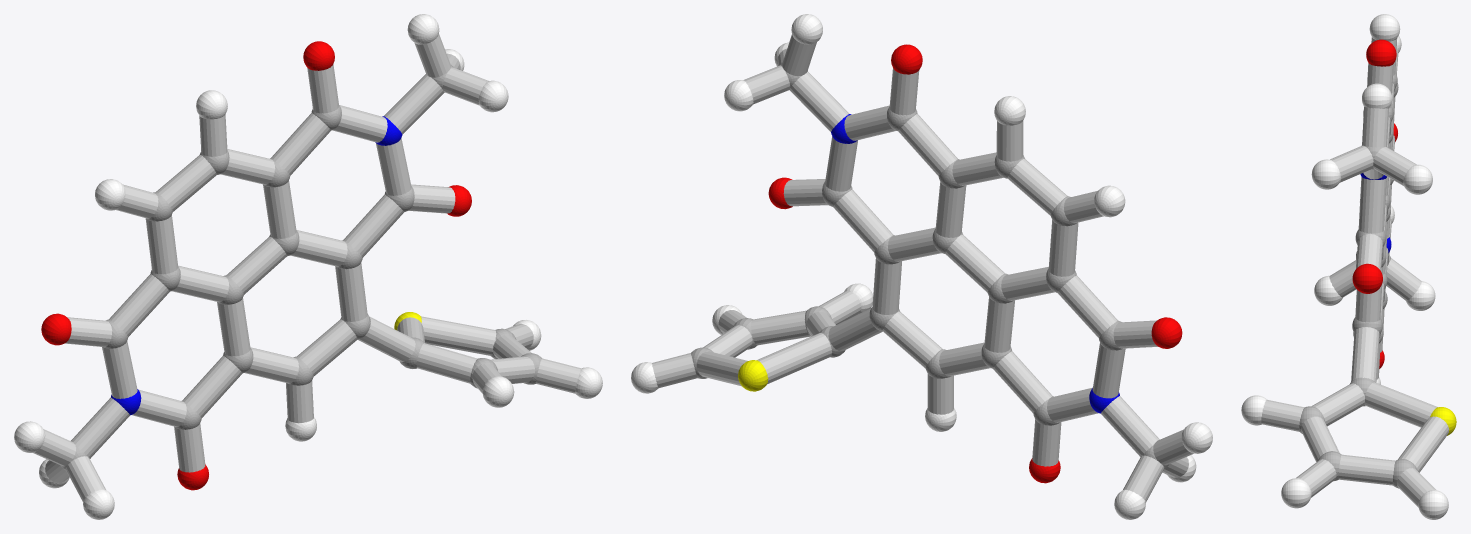
File: Dimethyl_Naphthalene_Dicarboximide_Phi_20_Theta_90_Thiophene.glb
3 renders of one model, left to right at view 1: azimuth 30°, elevation 25°; view 2: azimuth 150°, elevation 25°; view 3: azimuth 270°, elevation 25°, orthographic. The views are drawn at different scales.
Visible parts, largest first — view 1: grp14119, grp7241, grp1, grp12309, grp11585; view 2: grp14119, grp7241, grp1, grp12309, grp13757, grp11585; view 3: grp14119, grp7241, grp1, grp12309, grp13757.
Part boxes in pixels (bbox=[...]): grp14119: bbox=[33, 34, 581, 502]; grp7241: bbox=[14, 14, 602, 519]; grp1: bbox=[61, 65, 541, 470]; grp12309: bbox=[41, 41, 471, 490]; grp11585: bbox=[111, 116, 402, 415]; grp14119: bbox=[652, 34, 1193, 502]; grp7241: bbox=[631, 14, 1212, 519]; grp1: bbox=[691, 63, 1169, 468]; grp12309: bbox=[768, 44, 1182, 483]; grp13757: bbox=[738, 360, 768, 391]; grp11585: bbox=[831, 114, 1119, 413]; grp14119: bbox=[1261, 37, 1449, 507]; grp7241: bbox=[1241, 14, 1448, 519]; grp1: bbox=[1299, 73, 1417, 488]; grp12309: bbox=[1352, 39, 1397, 368]; grp13757: bbox=[1430, 407, 1456, 435].
Bounding box in the file's own units: 12 × 8.6 × 4.23.
